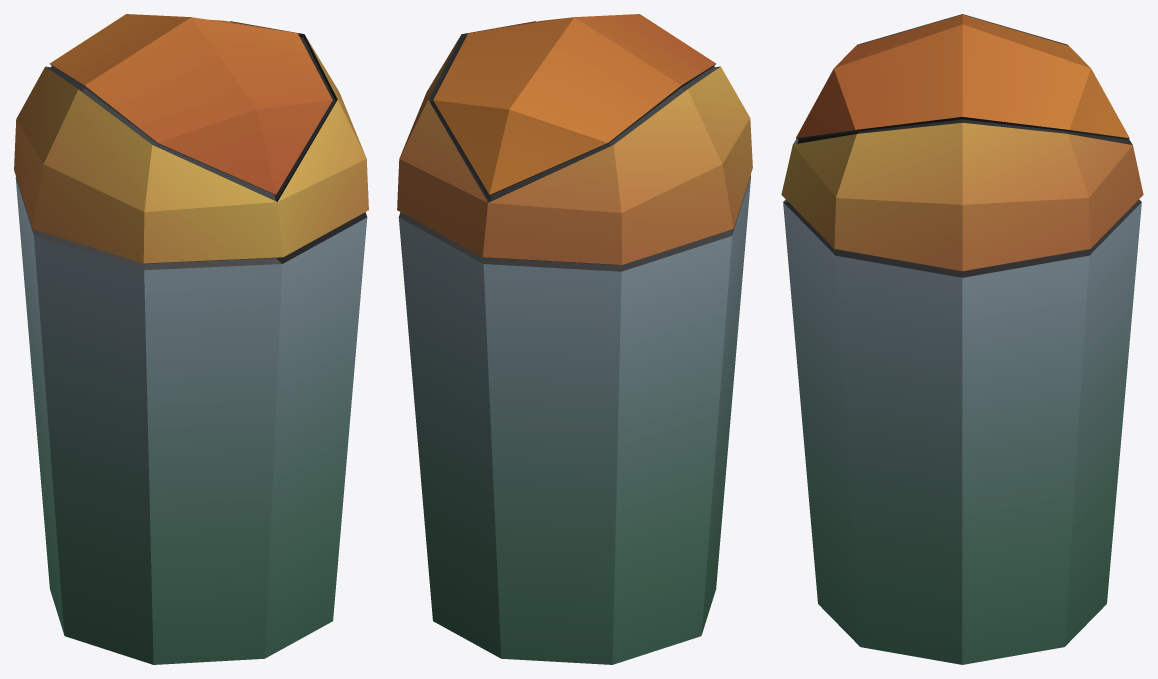
Rendered from sp_bin_kitchen_a.fbx.
3 renders of one model, left to right at view 1: azimuth 30°, elevation 25°; view 2: azimuth 150°, elevation 25°; view 3: azimuth 270°, elevation 25°, orthographic.
Parts seen in each view (by area): view 1: sp_bin_kitchen_a; view 2: sp_bin_kitchen_a; view 3: sp_bin_kitchen_a.
Part boxes in pixels (x1=…): sp_bin_kitchen_a: x1=14, y1=14, x2=368, y2=664; sp_bin_kitchen_a: x1=397, y1=14, x2=752, y2=664; sp_bin_kitchen_a: x1=781, y1=14, x2=1143, y2=664.
Bounding box in the file's own units: 26.36 × 46.55 × 26.36.
